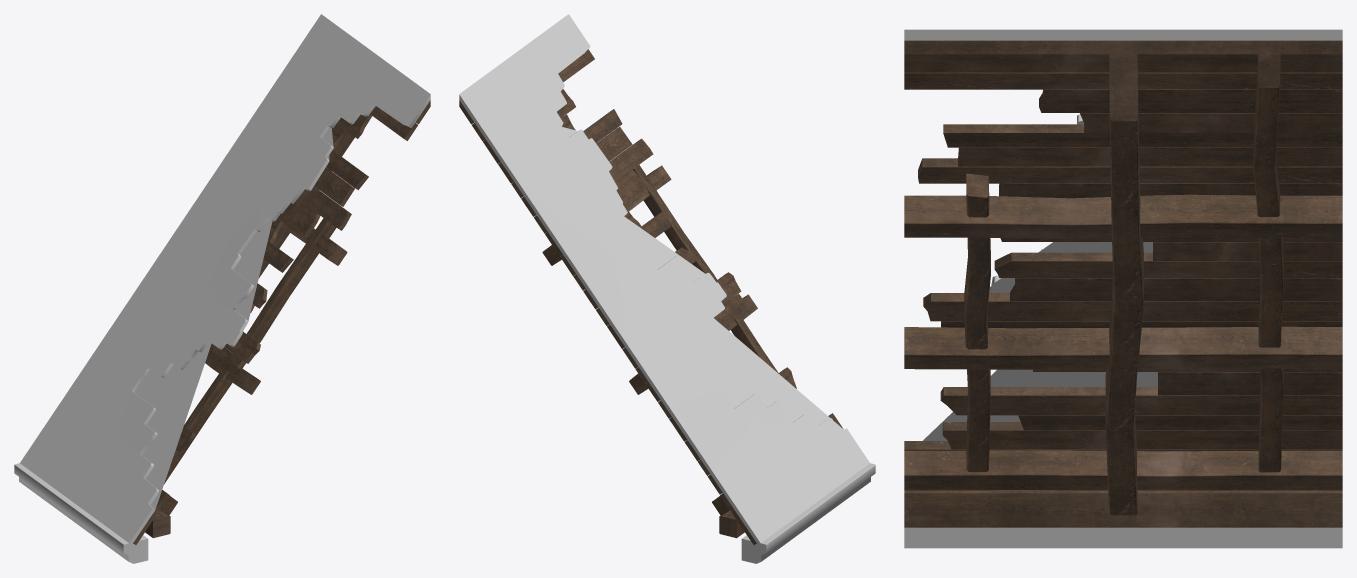
Rendered from SM_Roof_12m_Ruined_02.fbx.
3 renders of one model, left to right at view 1: azimuth 30°, elevation 25°; view 2: azimuth 150°, elevation 25°; view 3: azimuth 270°, elevation 25°, orthographic. The views are drawn at different scales.
Parts seen in each view (by area): view 1: SM_Roof_12m_Ruined_02_LOD0; view 2: SM_Roof_12m_Ruined_02_LOD0; view 3: SM_Roof_12m_Ruined_02_LOD0.
Boxes of the visible parts, left/top/right/bottom form: SM_Roof_12m_Ruined_02_LOD0: left=14, top=14, right=430, bottom=563; SM_Roof_12m_Ruined_02_LOD0: left=459, top=14, right=875, bottom=563; SM_Roof_12m_Ruined_02_LOD0: left=904, top=29, right=1342, bottom=548.
Size of what is drawn, in the model's own units: 647 by 801 by 400.
